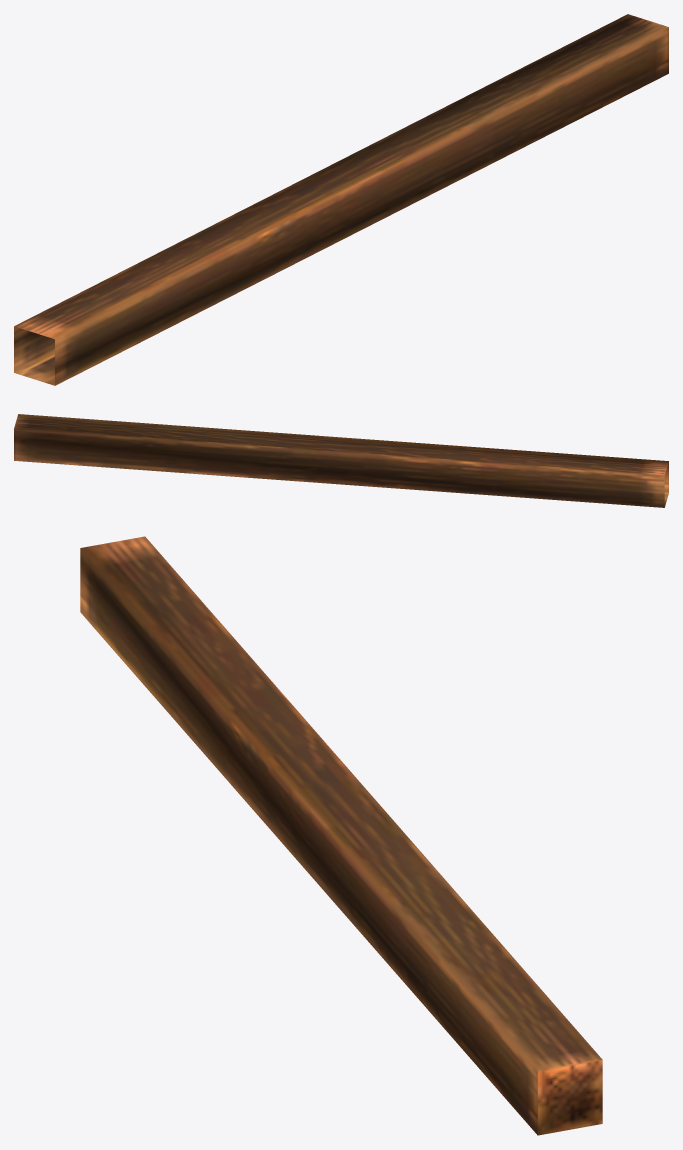
File: SWORDLIGHT20_JAILBRACE103.fbx
The picture shows the model from 3 angles, top to bottom: view 1: azimuth 30°, elevation 25°; view 2: azimuth 150°, elevation 25°; view 3: azimuth 270°, elevation 25°; orthographic projection. The views are drawn at different scales.
Parts seen in each view (by area): view 1: SWORDLIGHT20_JAILBRACE103; view 2: SWORDLIGHT20_JAILBRACE103; view 3: SWORDLIGHT20_JAILBRACE103.
Boxes of the visible parts, left/top/right/bottom form: SWORDLIGHT20_JAILBRACE103: left=14, top=14, right=668, bottom=385; SWORDLIGHT20_JAILBRACE103: left=14, top=414, right=668, bottom=507; SWORDLIGHT20_JAILBRACE103: left=80, top=536, right=602, bottom=1135.
Size of the model in its own units: 71700 by 4000 by 29591.
Materials: 1 (1 with a texture image).
